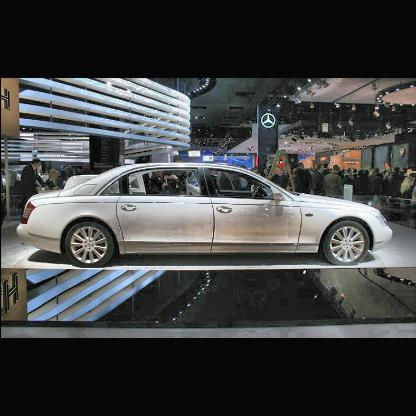Maybach Landaulet Convertible 2012: (16, 162, 394, 265)
